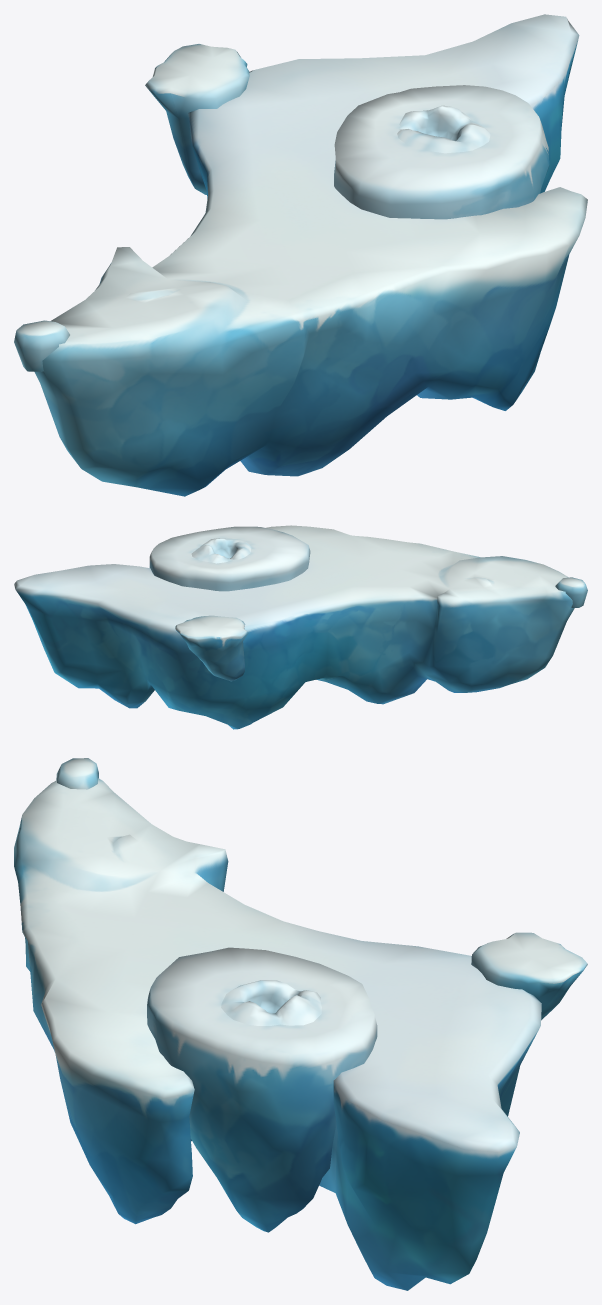
The model's file is terrain_stage06.FBX.
3 views of the same model, one above another, from view 1: azimuth 30°, elevation 25°; view 2: azimuth 150°, elevation 25°; view 3: azimuth 270°, elevation 25° (orthographic). The views are drawn at different scales.
Parts seen in each view (by area): view 1: terrain_stage06; view 2: terrain_stage06; view 3: terrain_stage06.
Part boxes in pixels (bbox=[...]): terrain_stage06: bbox=[14, 14, 587, 496]; terrain_stage06: bbox=[14, 525, 587, 729]; terrain_stage06: bbox=[14, 758, 587, 1290].
Size of the model in its own units: 11322 by 3706 by 7461.
